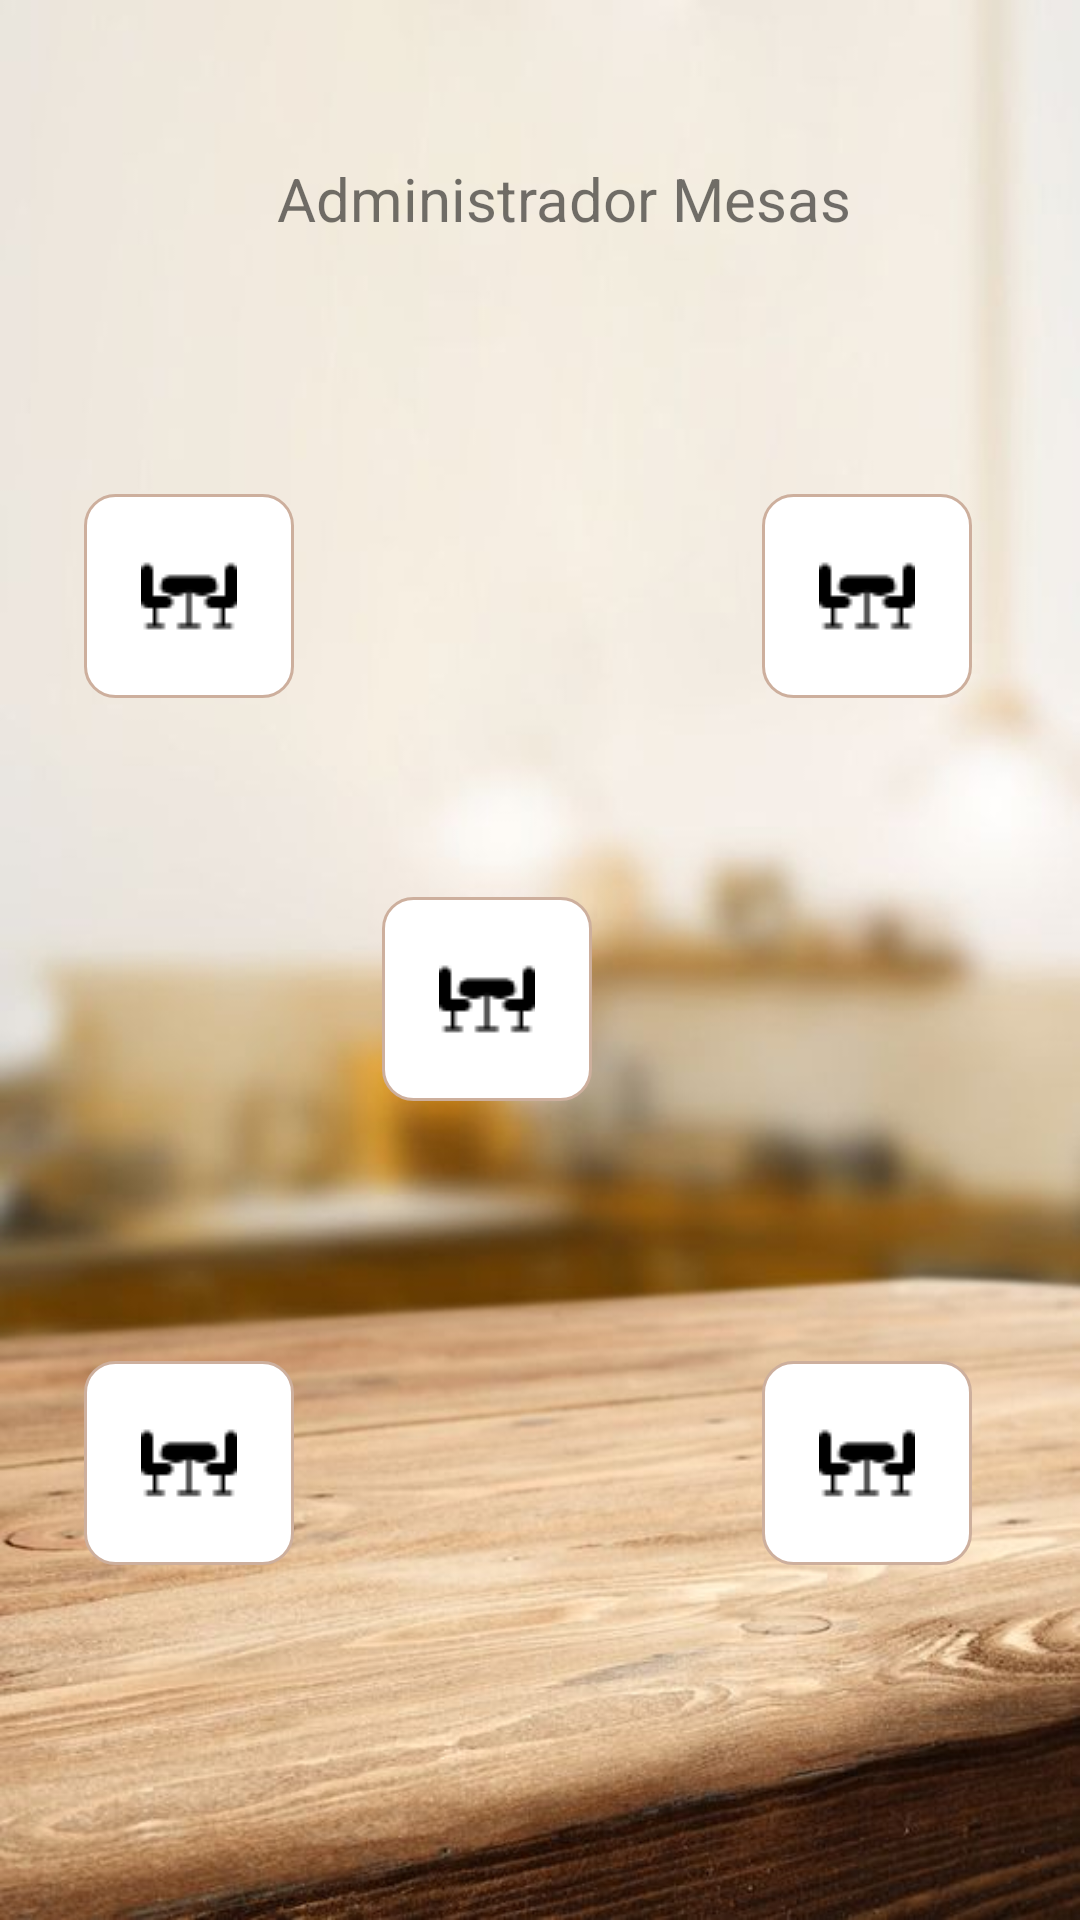

Icons on this 1080 × 1920 Android screen, each with the point to tap as point (x, y):
table: point (189, 596), point (867, 596), point (487, 999), point (189, 1463), point (867, 1463)
